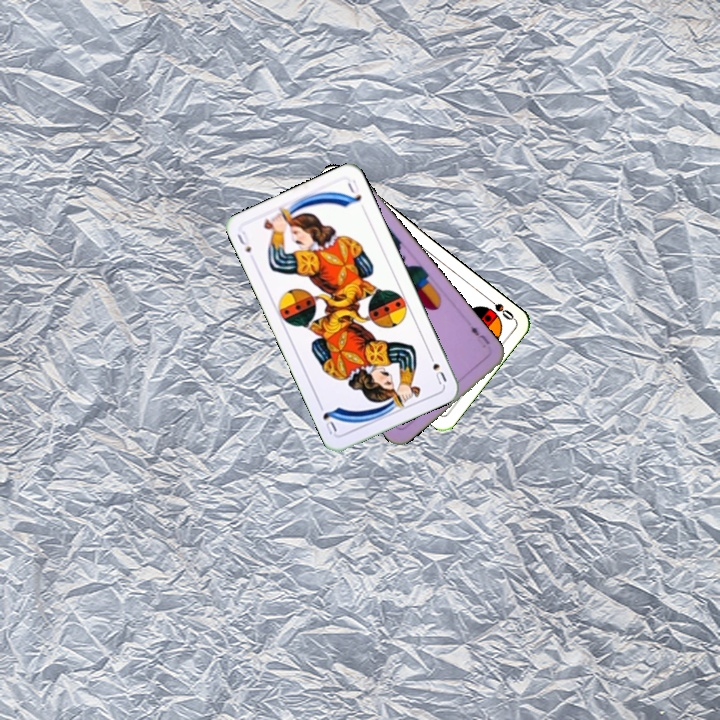EU: (466, 321, 493, 347)
SO: (482, 293, 517, 323)
SU: (424, 349, 449, 388), (233, 228, 254, 255)
